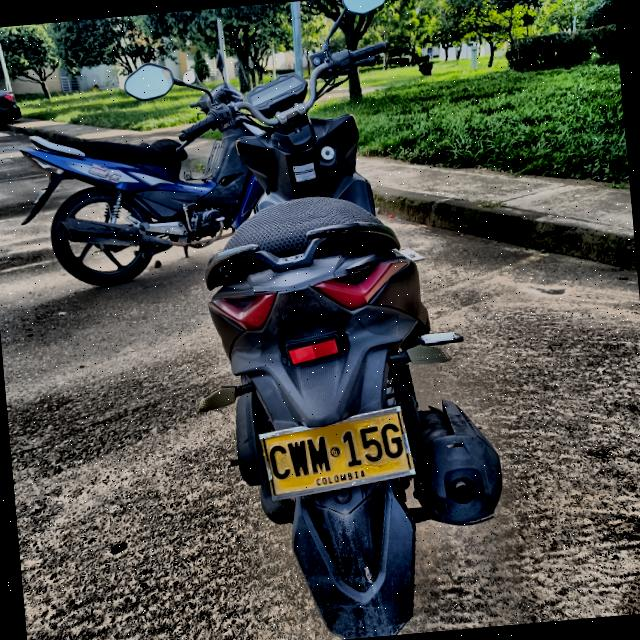1: (339, 429, 363, 470)
5: (356, 423, 386, 465)
C: (267, 442, 291, 480)
G: (379, 419, 406, 462)
M: (305, 434, 333, 476)
W: (285, 438, 312, 479)
